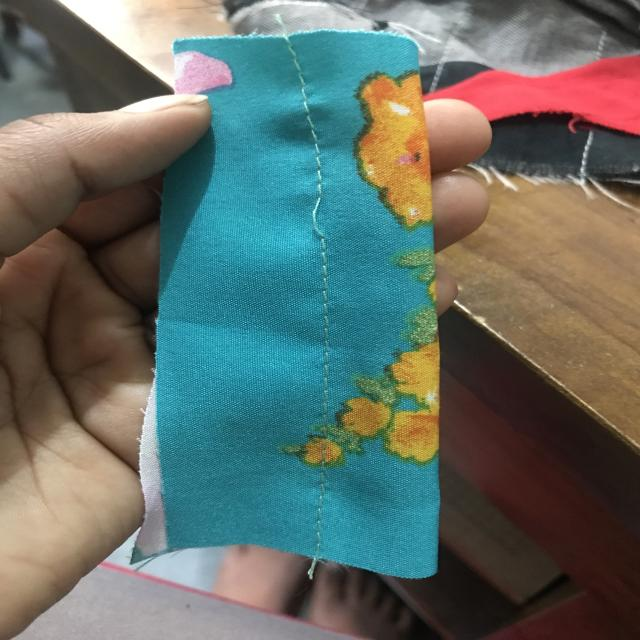skip: (294, 186, 342, 252)
